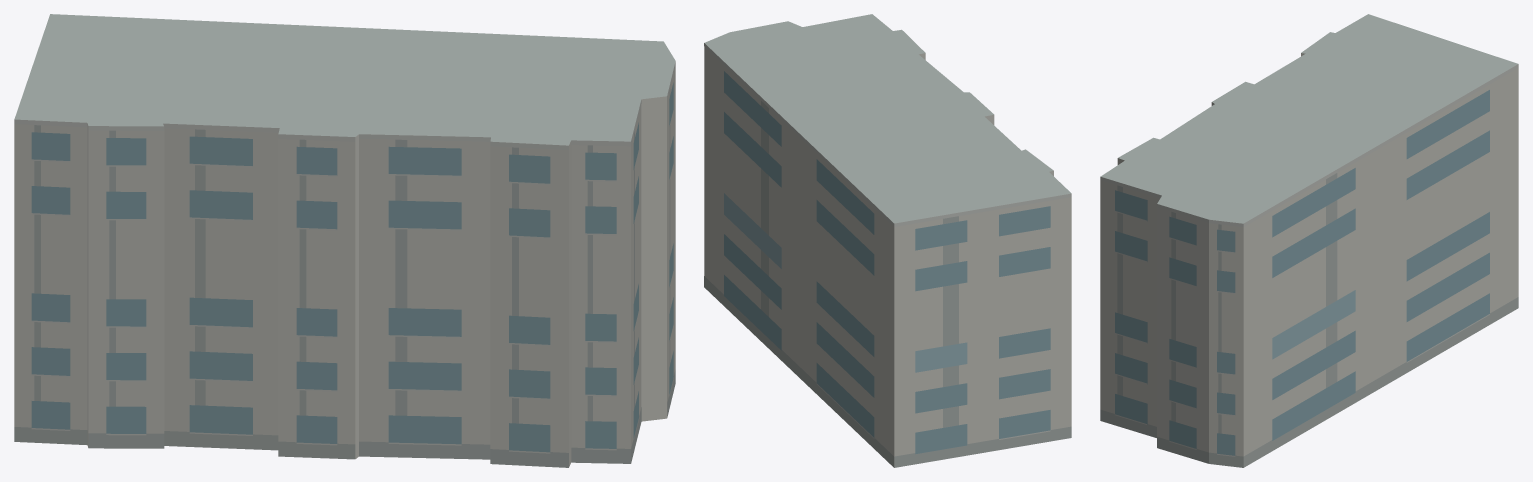
File: survey-upis-32777591.glb
The picture shows the model from 3 angles, left to right: view 1: azimuth 30°, elevation 25°; view 2: azimuth 150°, elevation 25°; view 3: azimuth 270°, elevation 25°; orthographic projection. The views are drawn at different scales.
Parts seen in each view (by area): view 1: survey-upis-32777591.tmp; view 2: survey-upis-32777591.tmp; view 3: survey-upis-32777591.tmp.
Boxes of the visible parts, x1,y1,x2,y2 form: survey-upis-32777591.tmp: (14,14,675,467); survey-upis-32777591.tmp: (704,14,1071,467); survey-upis-32777591.tmp: (1100,14,1518,467).
Size of the model in its own units: 31.29 by 16.99 by 26.37.
